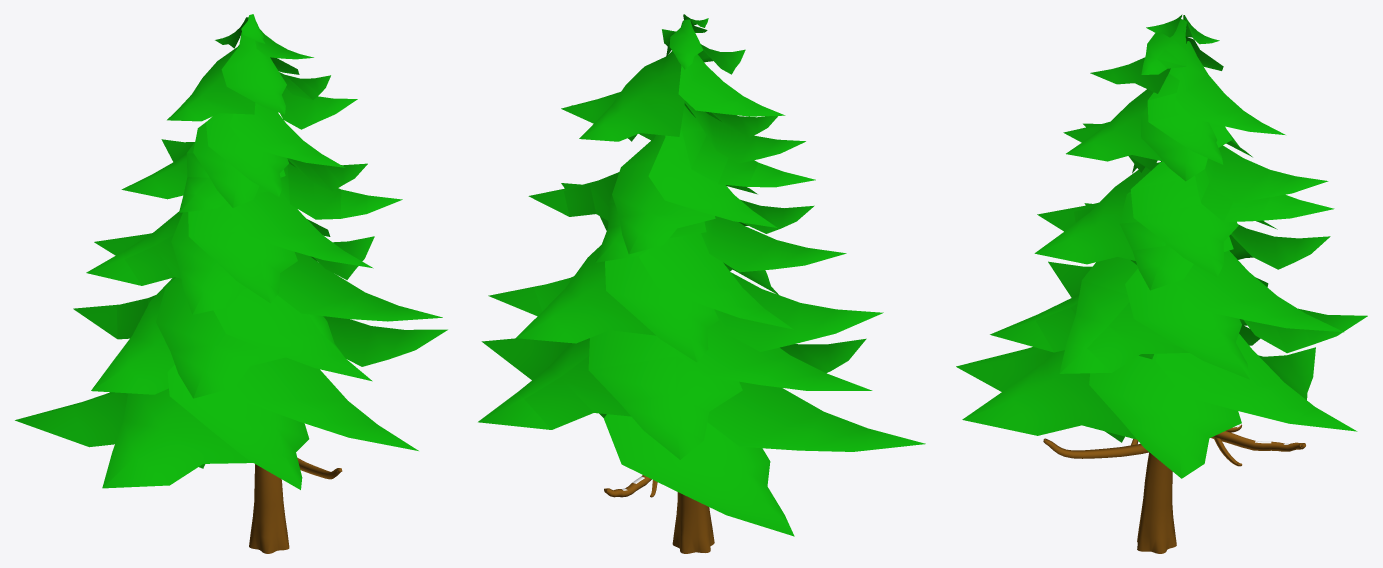
The model's file is pohon pinus 2 .glb.
The picture shows the model from 3 angles, left to right: view 1: azimuth 30°, elevation 25°; view 2: azimuth 150°, elevation 25°; view 3: azimuth 270°, elevation 25°; orthographic projection. The views are drawn at different scales.
Visible parts, largest first — view 1: Pine_2; view 2: Pine_2; view 3: Pine_2.
Part boxes in pixels (x1,y1,x2,y2): Pine_2: (15,14,447,553); Pine_2: (478,14,925,553); Pine_2: (956,14,1367,553).
Size of the model in its own units: 5.73 by 7.38 by 5.22.
